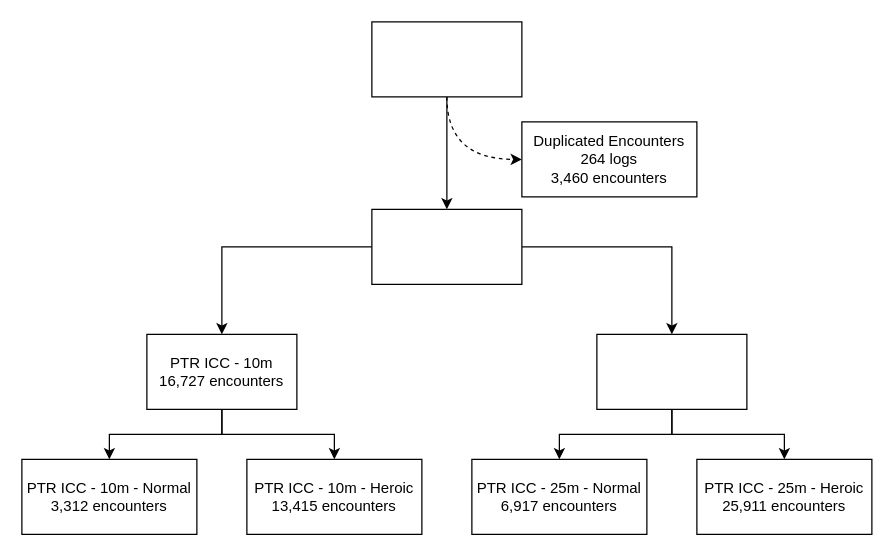
The diagram is 894 pixels wide and 556 high, and some of its shapes have lost their labels. The centre of each missing label's shape, as x and y in pixels:
PTR ICC - 25m 32,828 encounters: [671,371]
PTR ICC 3,015 logs 49,555 encounters: [446,246]
PTR ICC 3,279 logs 53,015 encounters: [446,59]
